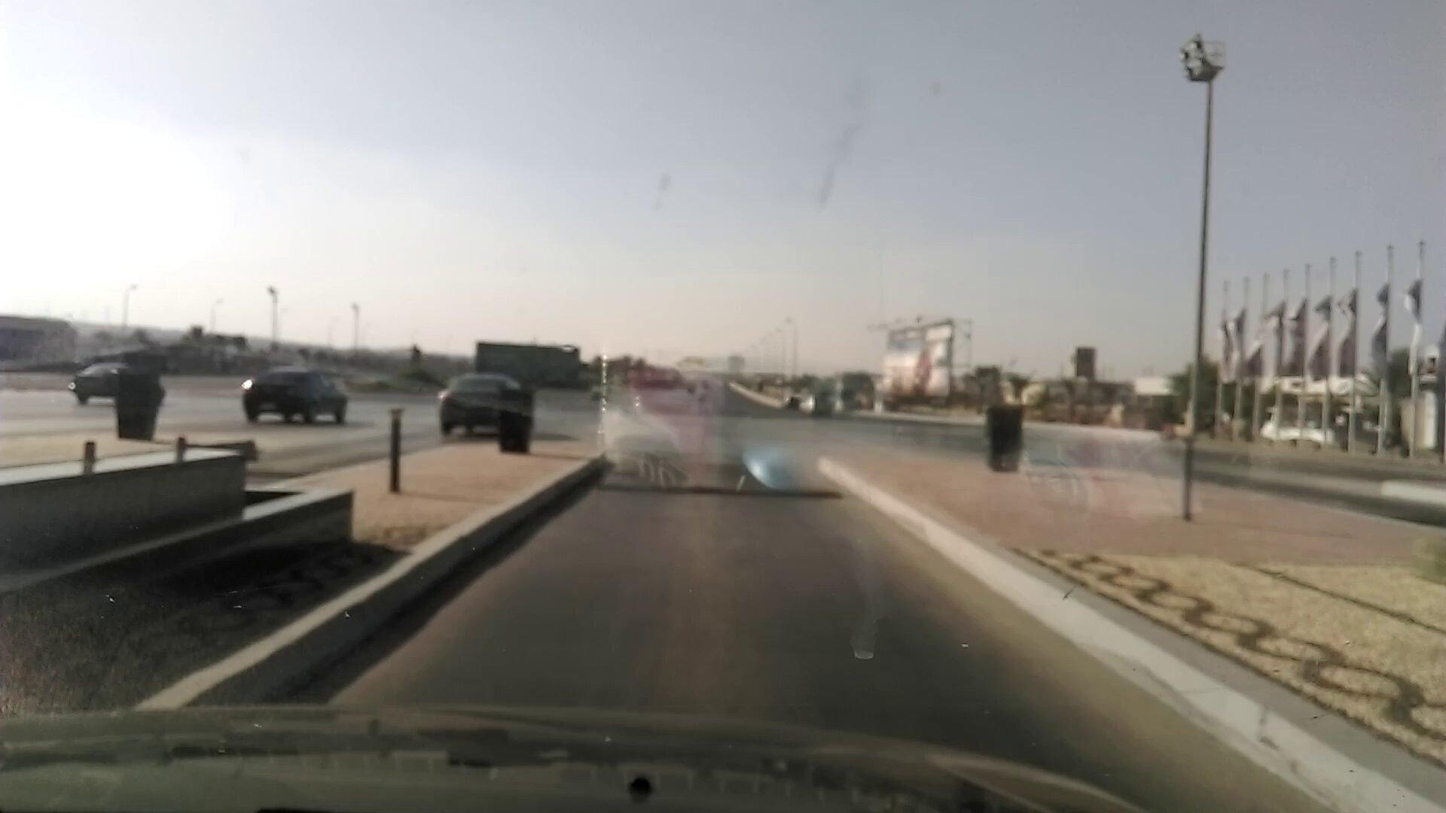Bump: (597, 480, 840, 506)
